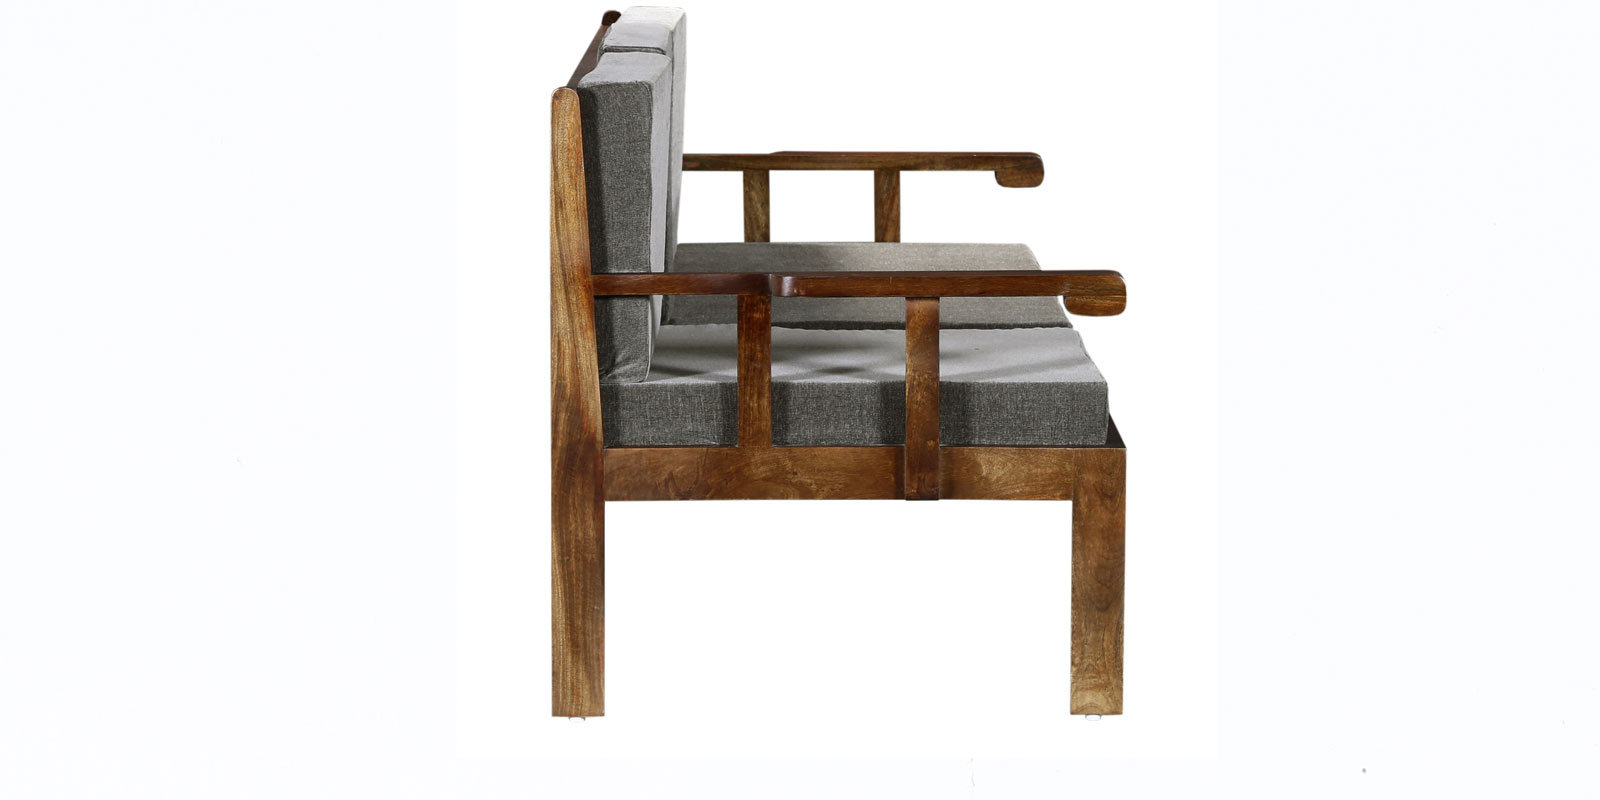Corvallis Three Seater Sofa in Provincial Teak Finish by Woodsworth: (500, 9, 1155, 741)
